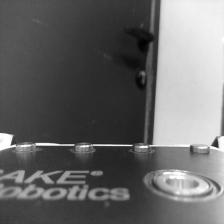Door Handle: (123, 23, 156, 56)
Lock: (136, 69, 148, 91)
